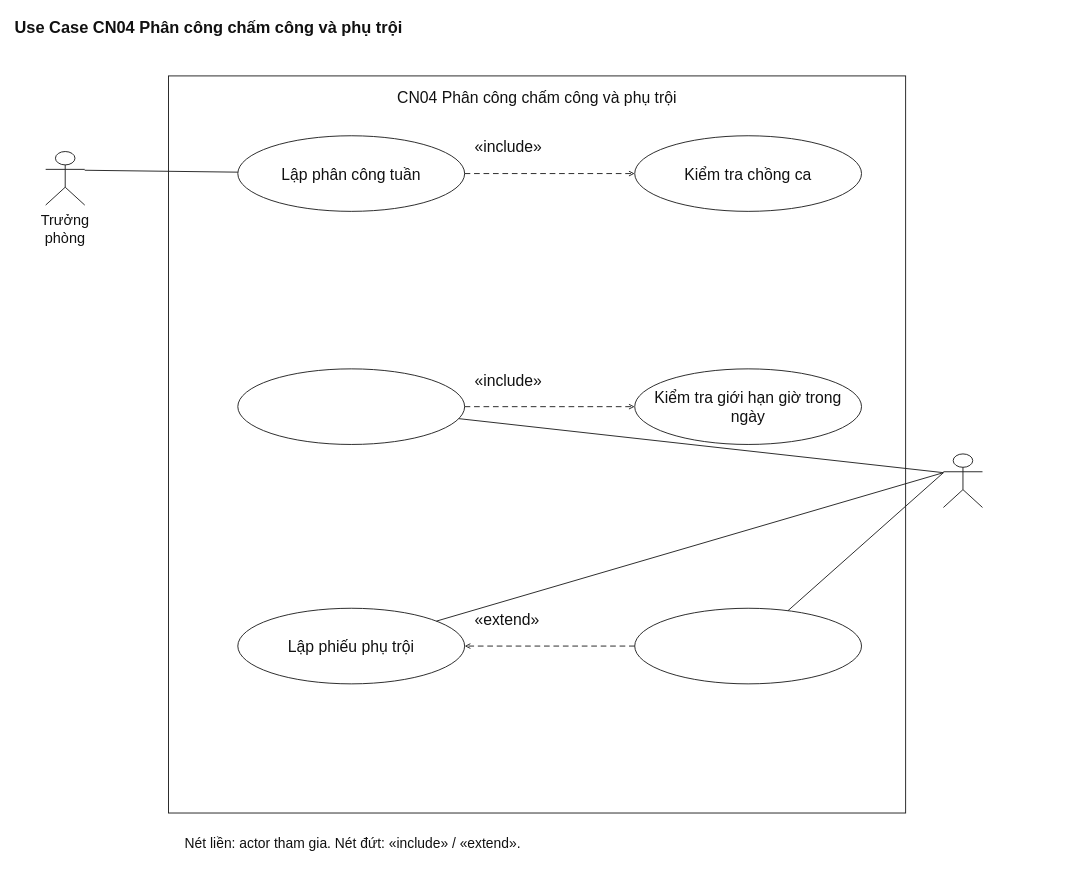
This 1067x874 diagram has some shape labels left out. Each missing label, with the centre of its shape:
"Ban chấm công" belongs at (963,480).
"Ghi nhận chấm công" belongs at (351,406).
"Thêm nhân viên phụ trội" belongs at (748,646).
